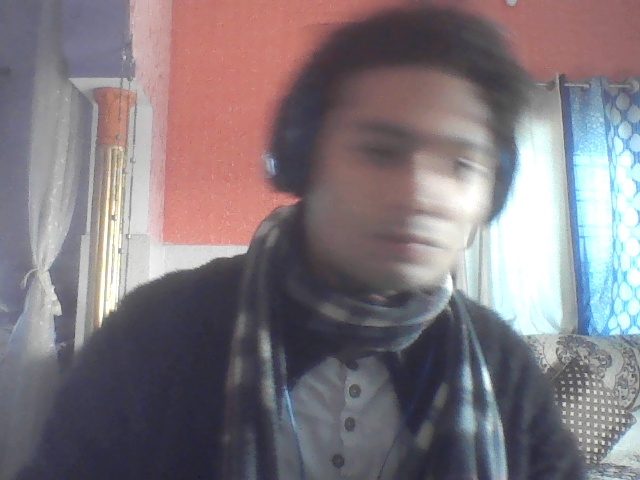real: (293, 4, 511, 313)
